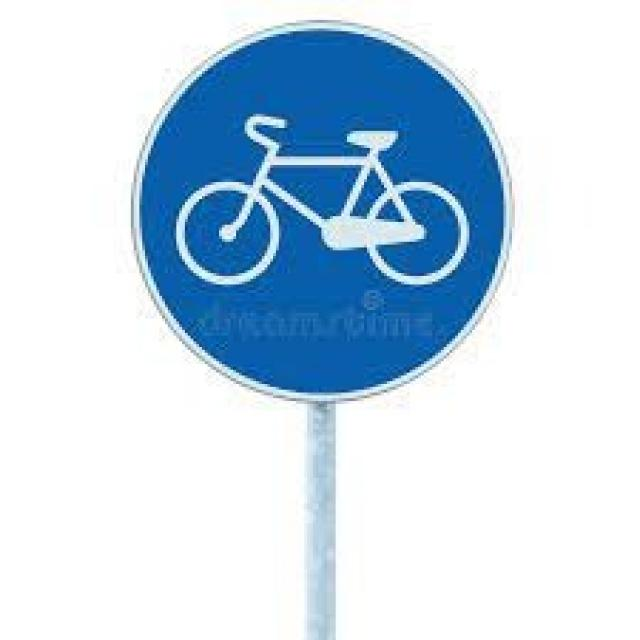bicycle: (127, 10, 524, 407)
